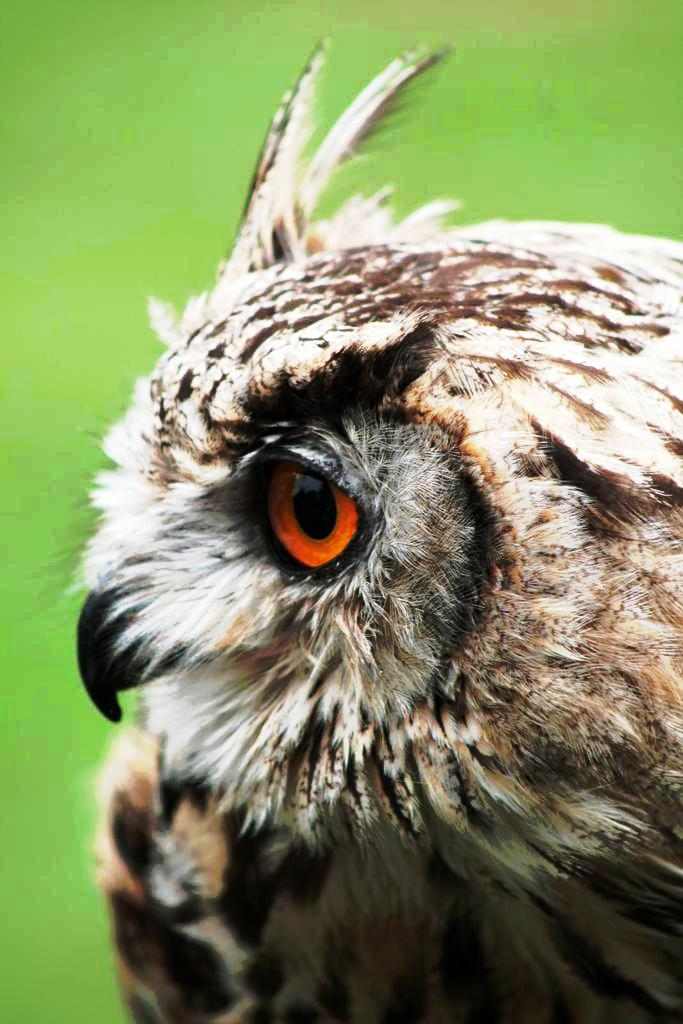Owl: (65, 34, 682, 1024)
